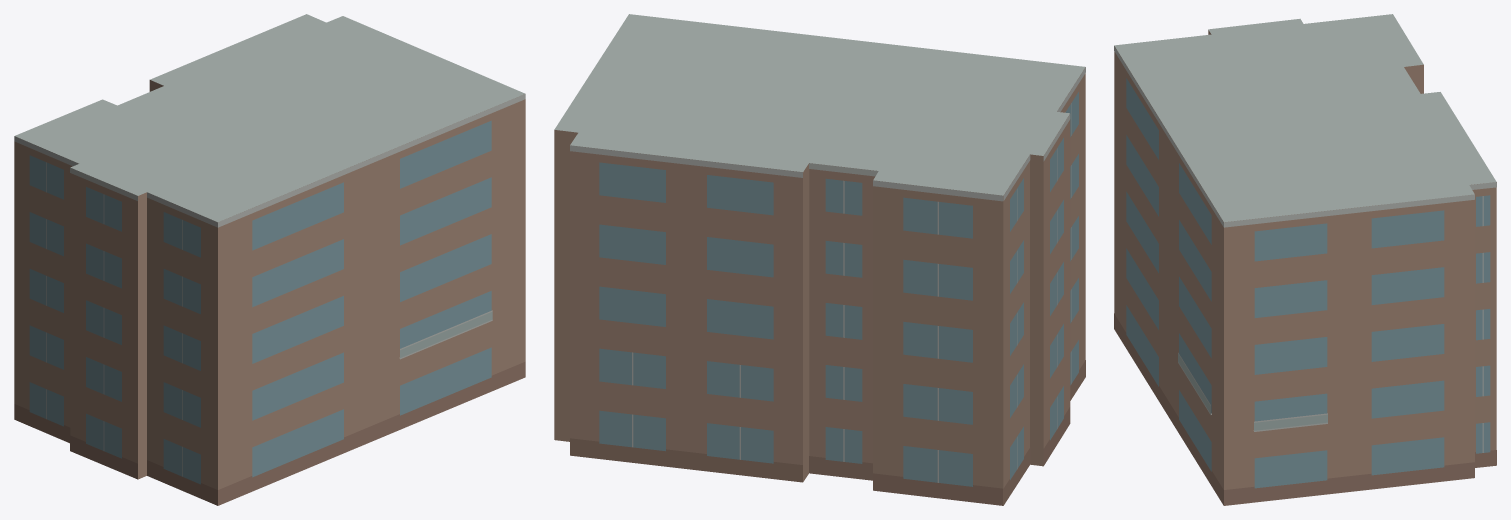
File: survey-upis-32651485.glb
3 renders of one model, left to right at view 1: azimuth 30°, elevation 25°; view 2: azimuth 150°, elevation 25°; view 3: azimuth 270°, elevation 25°, orthographic. The views are drawn at different scales.
Parts seen in each view (by area): view 1: survey-upis-32651485.tmp; view 2: survey-upis-32651485.tmp; view 3: survey-upis-32651485.tmp.
Part boxes in pixels (box(x1,y1,x2,y2)): survey-upis-32651485.tmp: box(14, 14, 525, 505); survey-upis-32651485.tmp: box(554, 14, 1085, 505); survey-upis-32651485.tmp: box(1114, 14, 1496, 505).
Bounding box in the file's own units: 20.32 × 12.9 × 15.78.
